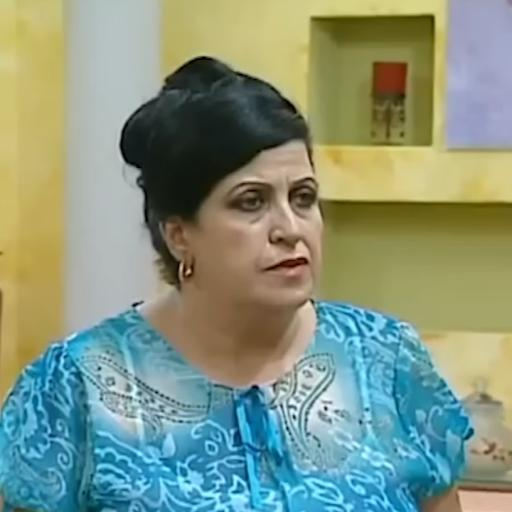jannet: (162, 141, 323, 307)
